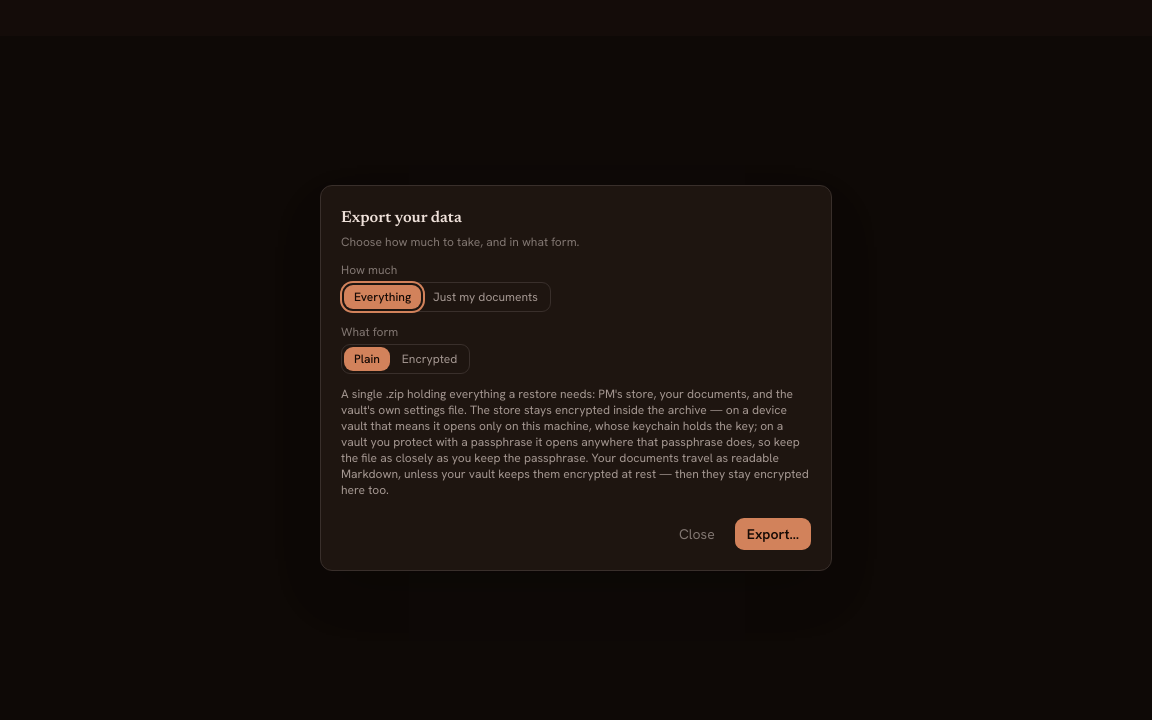
the two axes › sends the documents-only plain export to the backend's own folder picker
Click the button "Just my documents".
click(486, 297)  # box [423, 285, 548, 309]
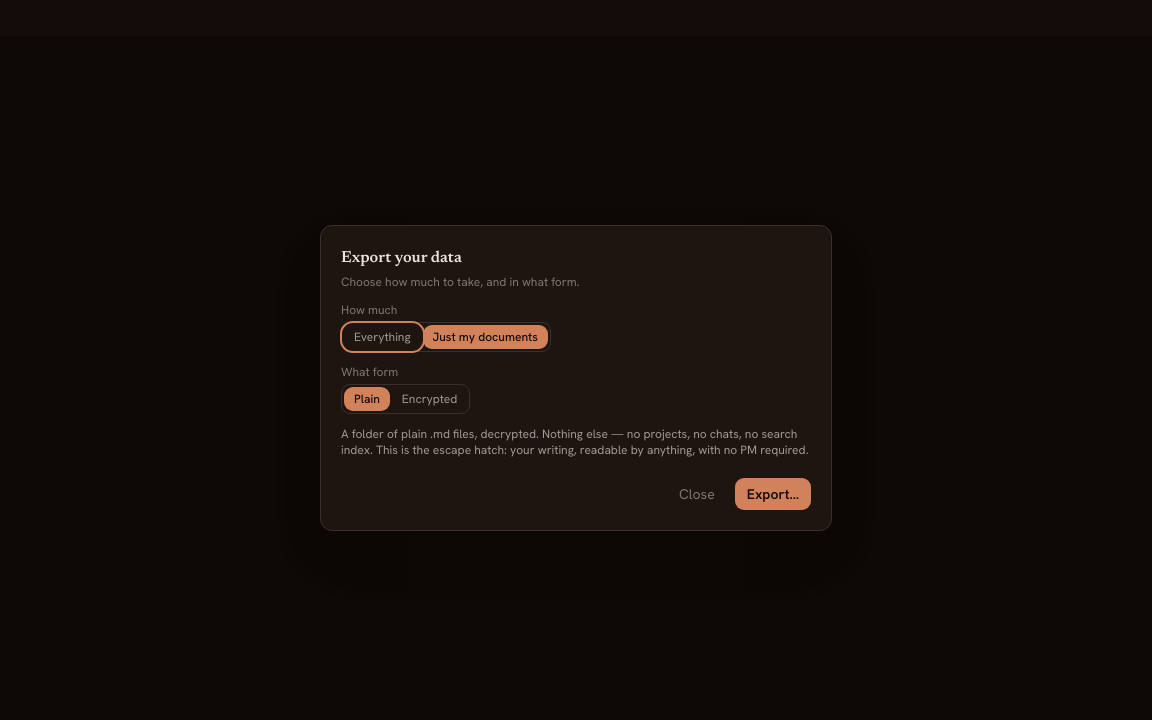
Click the button "Export…".
click(773, 494)  # box [735, 478, 811, 510]
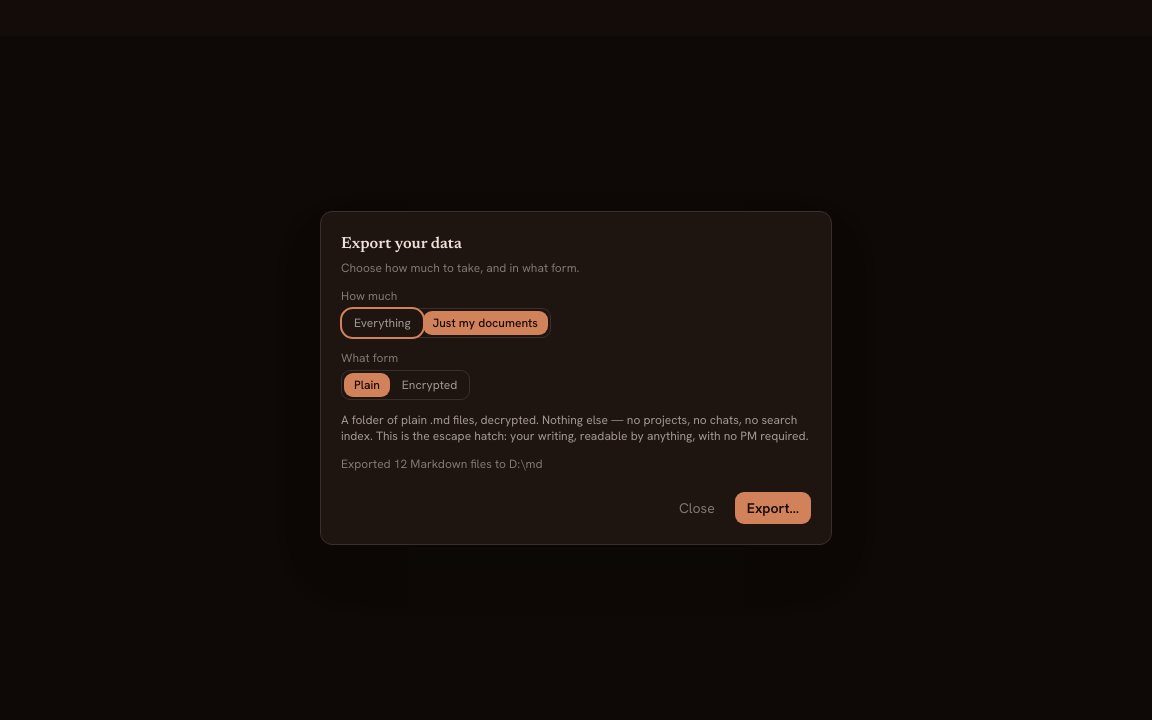
Expected: the text "Exported 12 Markdown files to D:\\md" is shown, [341, 456, 542, 472]
